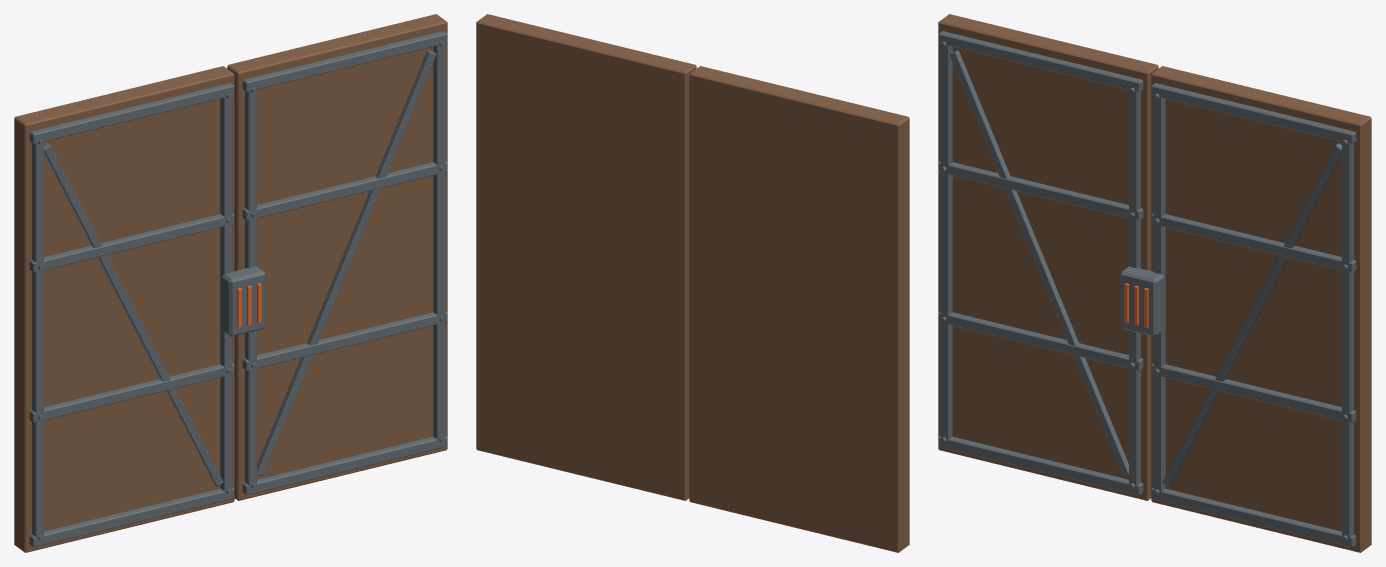
Rendered from SM_DoorPanel_02.fbx.
The picture shows the model from 3 angles, left to right: view 1: azimuth 30°, elevation 25°; view 2: azimuth 150°, elevation 25°; view 3: azimuth 330°, elevation 25°; orthographic projection.
Parts seen in each view (by area): view 1: SM_DoorPanel_02; view 2: SM_DoorPanel_02; view 3: SM_DoorPanel_02.
Part boxes in pixels (<box>): SM_DoorPanel_02: <box>14,14,447,552</box>; SM_DoorPanel_02: <box>476,14,909,552</box>; SM_DoorPanel_02: <box>938,14,1371,552</box>.
Size of the model in its own units: 344 by 35 by 333.
